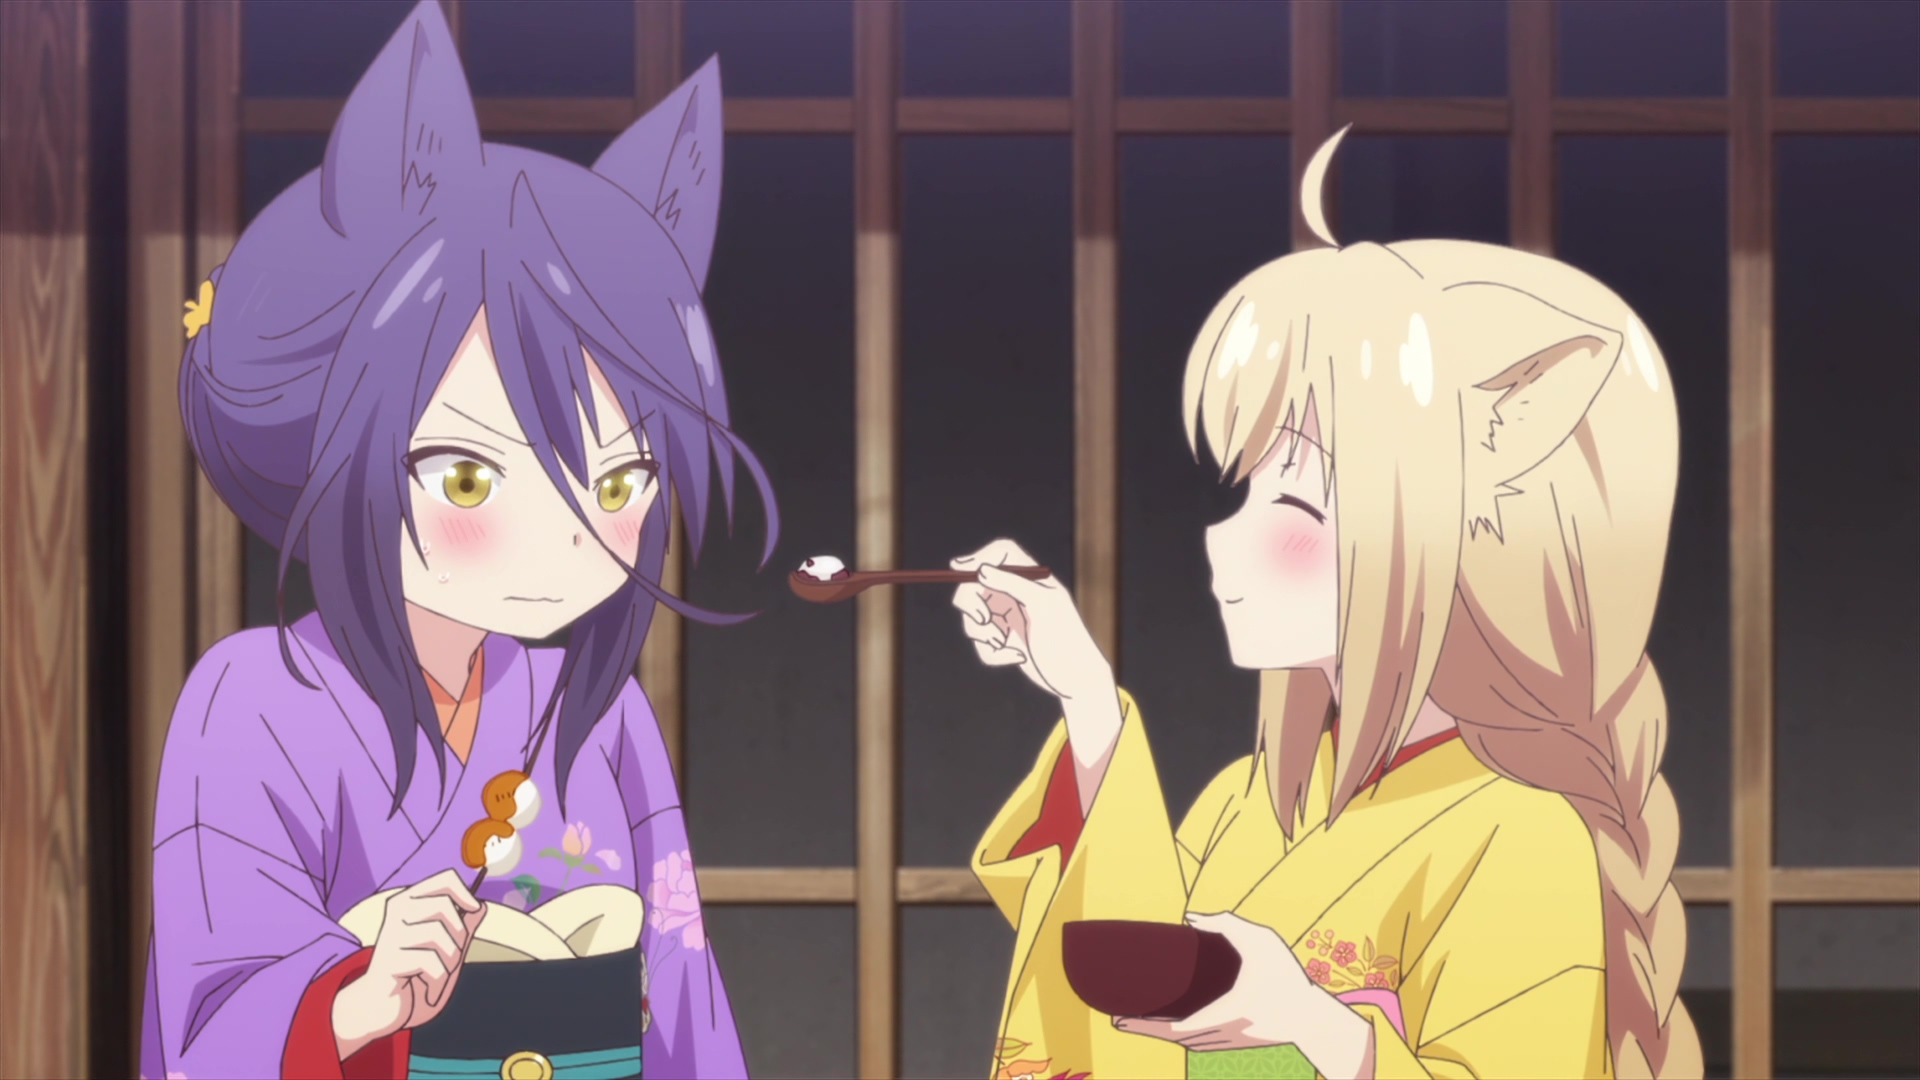柚: (793, 123, 1702, 1080)
皋: (136, 1, 781, 1080)
